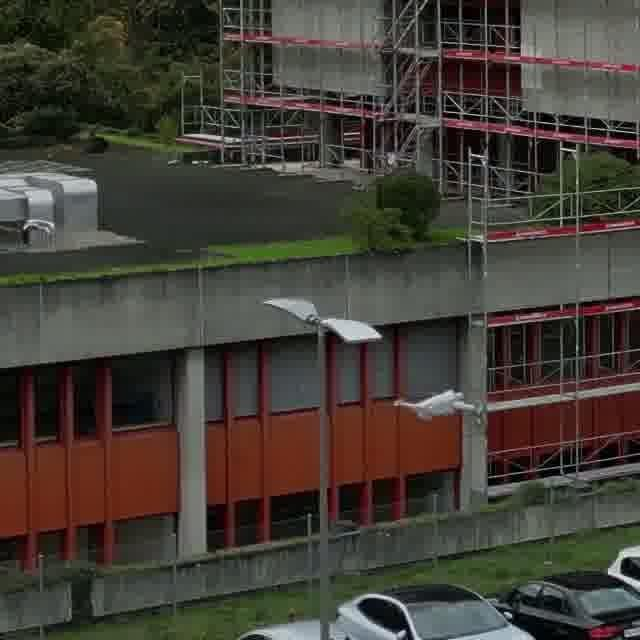Drohne: (394, 389, 481, 420)
